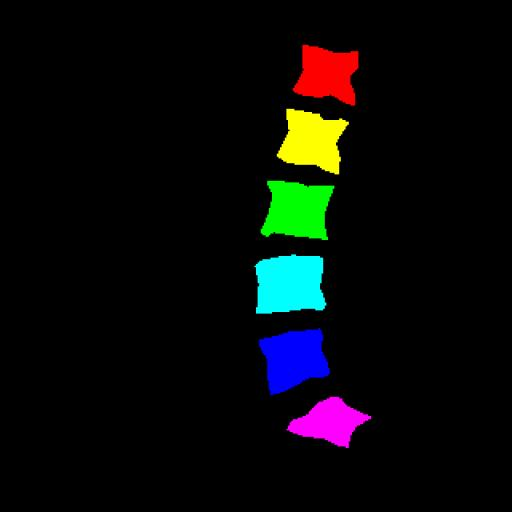L1: (293, 45, 358, 106)
L2: (277, 109, 349, 174)
L3: (262, 182, 334, 240)
L4: (256, 256, 325, 314)
L5: (259, 329, 329, 394)
S1: (287, 397, 371, 448)
